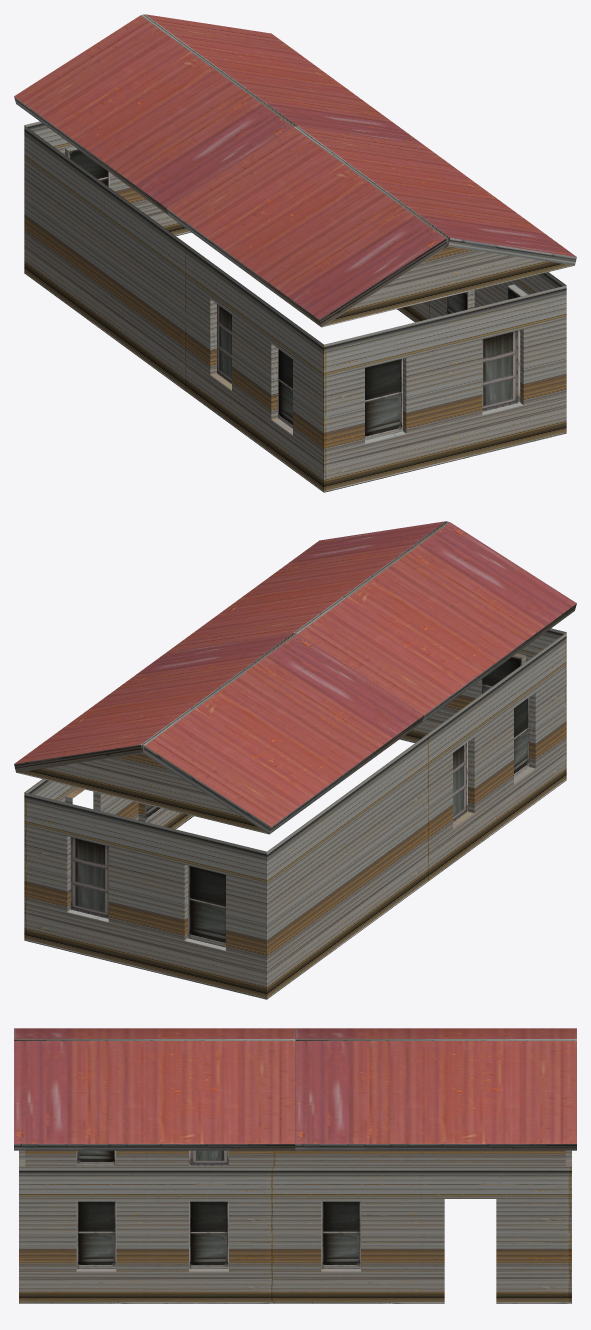
File: rural_unmobilehome_1_rural_trailer_stuff_1_0_lev2.glb
The picture shows the model from 3 angles, top to bottom: view 1: azimuth 30°, elevation 25°; view 2: azimuth 150°, elevation 25°; view 3: azimuth 270°, elevation 25°; orthographic projection. The views are drawn at different scales.
Visible parts, largest first — view 1: rural_unmobilehome_1_rural_trailer_stuff_1_0_lev2; view 2: rural_unmobilehome_1_rural_trailer_stuff_1_0_lev2; view 3: rural_unmobilehome_1_rural_trailer_stuff_1_0_lev2.
Boxes of the visible parts, bbox=[...] form: rural_unmobilehome_1_rural_trailer_stuff_1_0_lev2: bbox=[14, 14, 576, 492]; rural_unmobilehome_1_rural_trailer_stuff_1_0_lev2: bbox=[14, 521, 576, 999]; rural_unmobilehome_1_rural_trailer_stuff_1_0_lev2: bbox=[14, 1028, 576, 1303].
Bounding box in the file's own units: 6.59 × 5.95 × 13.52.
Materials: 1 (1 with a texture image).
